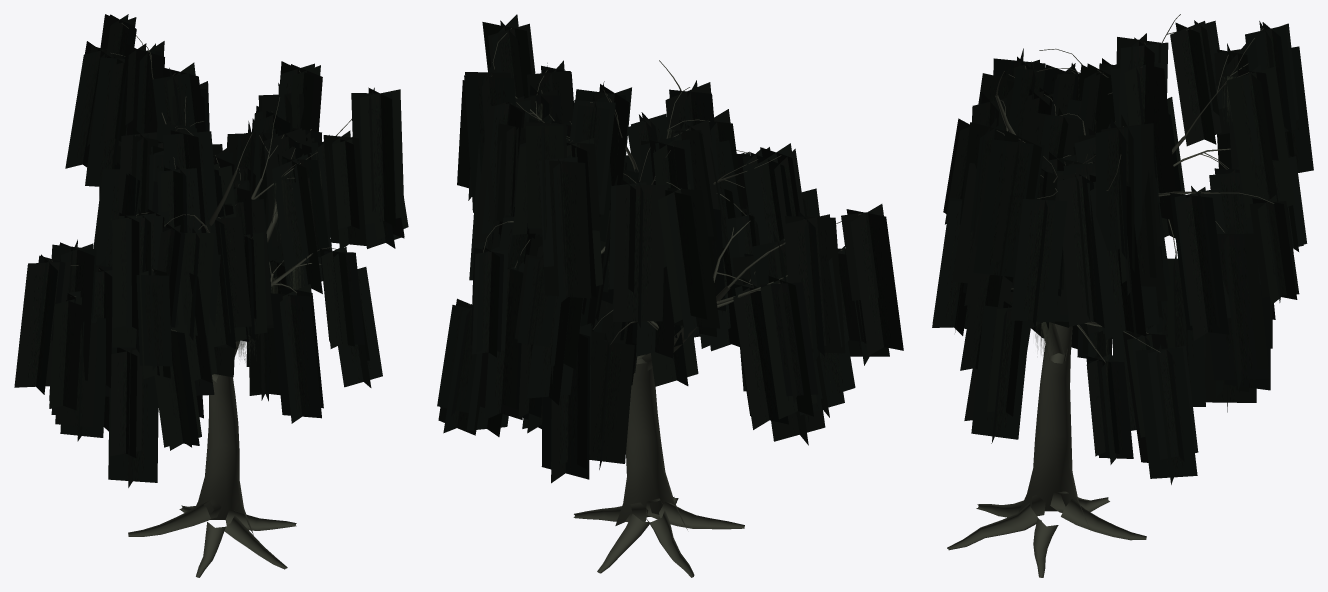
File: Sauce_Lloron.glb
The picture shows the model from 3 angles, left to right: view 1: azimuth 30°, elevation 25°; view 2: azimuth 150°, elevation 25°; view 3: azimuth 270°, elevation 25°; orthographic projection. The views are drawn at different scales.
Parts seen in each view (by area): view 1: Sauce_Lloron; view 2: Sauce_Lloron; view 3: Sauce_Lloron.
Part boxes in pixels (<box>): Sauce_Lloron: <box>14,14,408,577</box>; Sauce_Lloron: <box>437,14,903,577</box>; Sauce_Lloron: <box>932,14,1313,577</box>.
Size of the model in its own units: 11.05 by 12.04 by 8.09.
3 materials, 2 textured.
